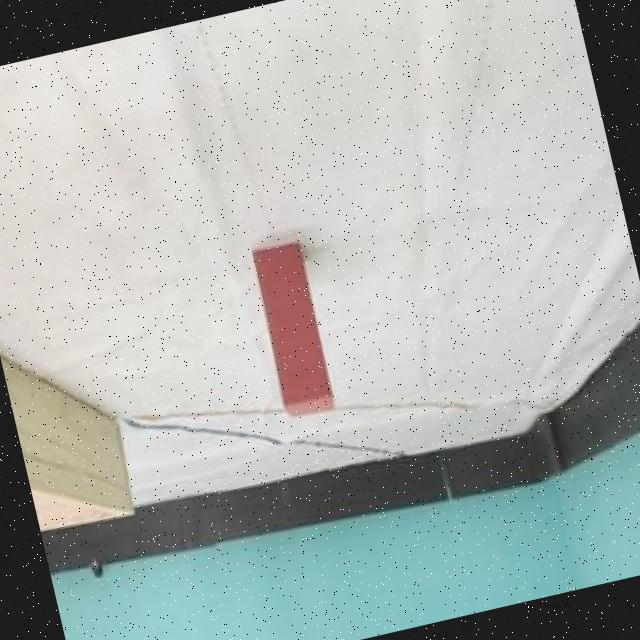redbox: (248, 236, 334, 416)
